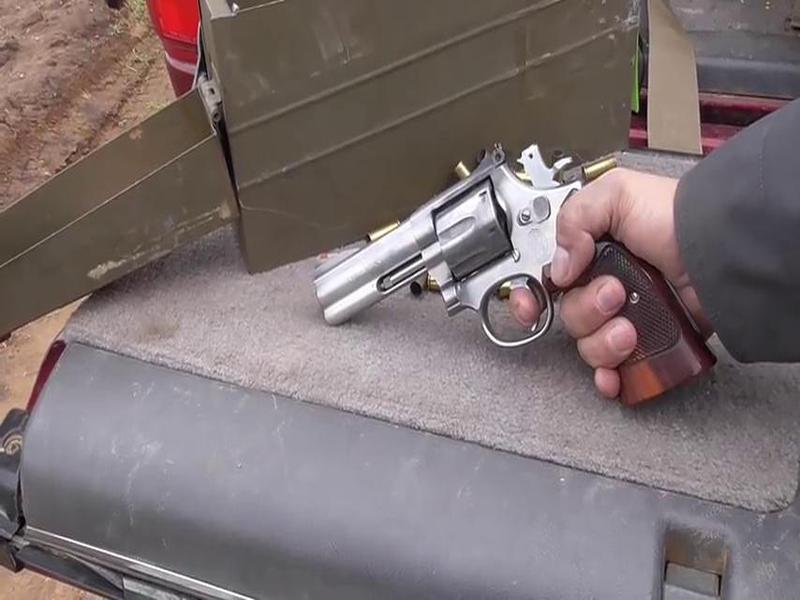Revolver: (319, 107, 720, 408)
